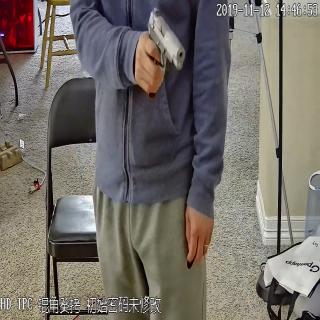gun: (136, 5, 182, 100)
